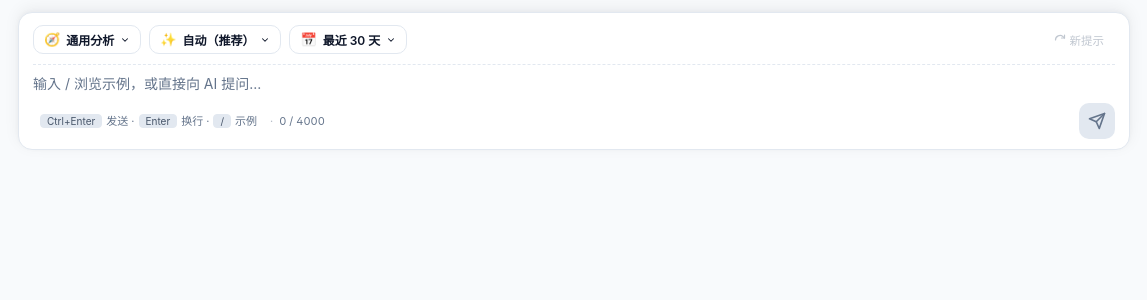
Test: InputBar — keyboard menu navigation › selects role on Enter in menu
Click the button "🧭 通用分析" at point(87, 40), box [33,25,141,54]
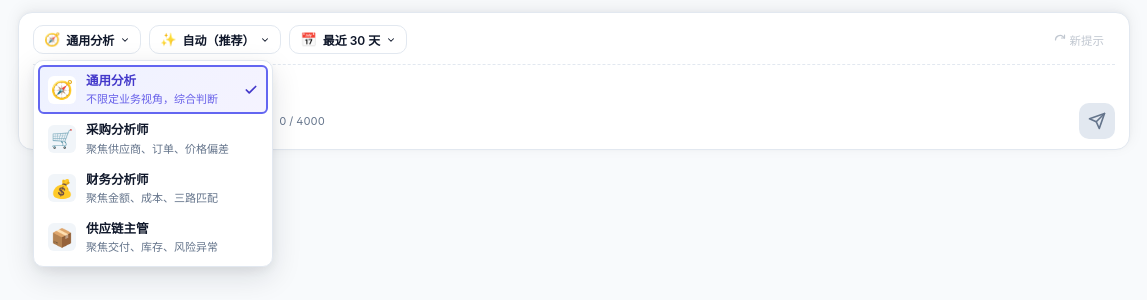
Press ArrowDown in the button "🧭 通用分析", box [33,25,141,54]
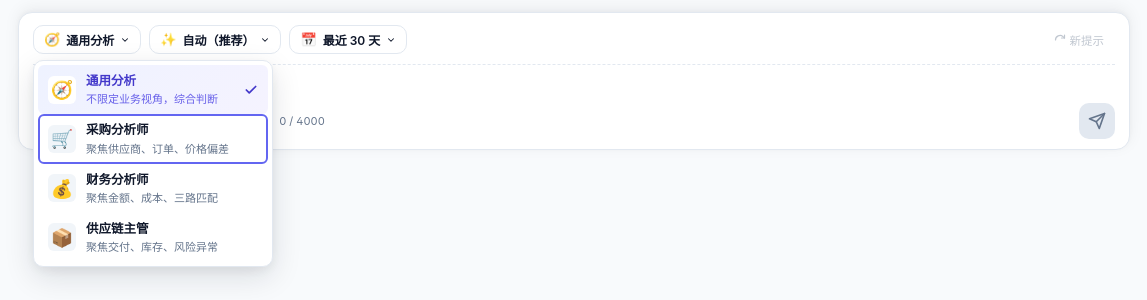
Press Enter in the button "🧭 通用分析", box [33,25,141,54]
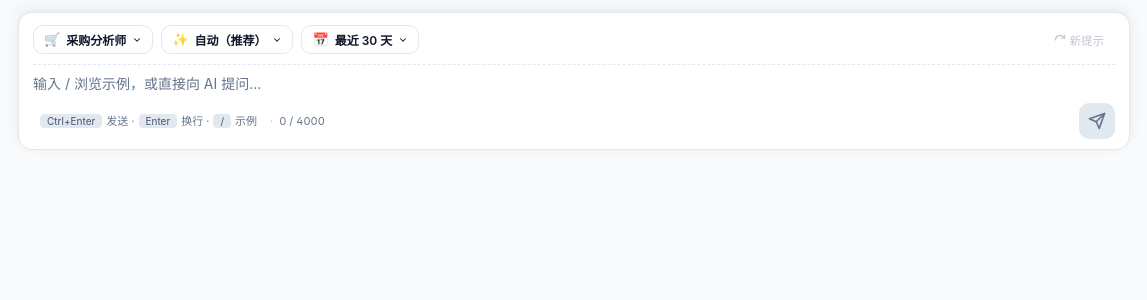
Expected: the list is gone
